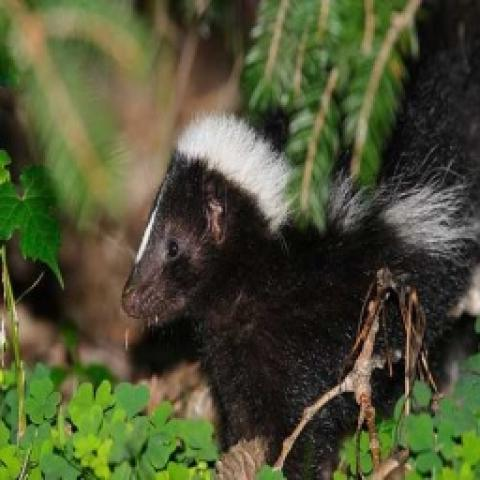small_animal: (118, 43, 480, 466)
